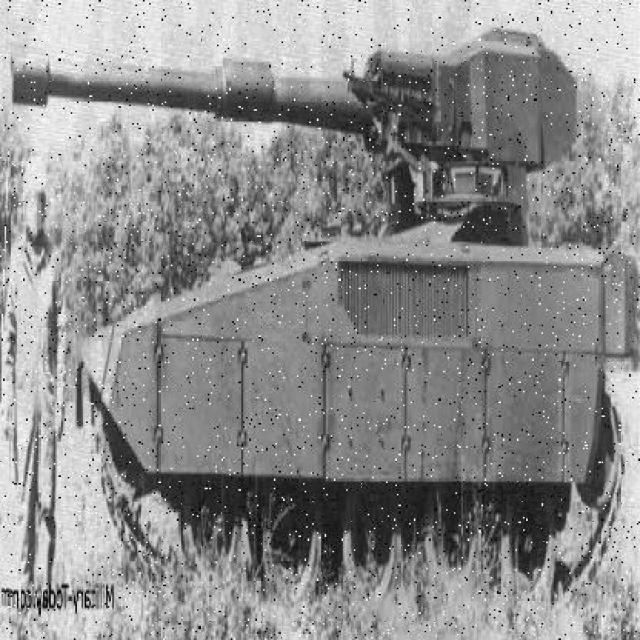Person: (3, 152, 74, 610)
Tank: (10, 27, 640, 615)
